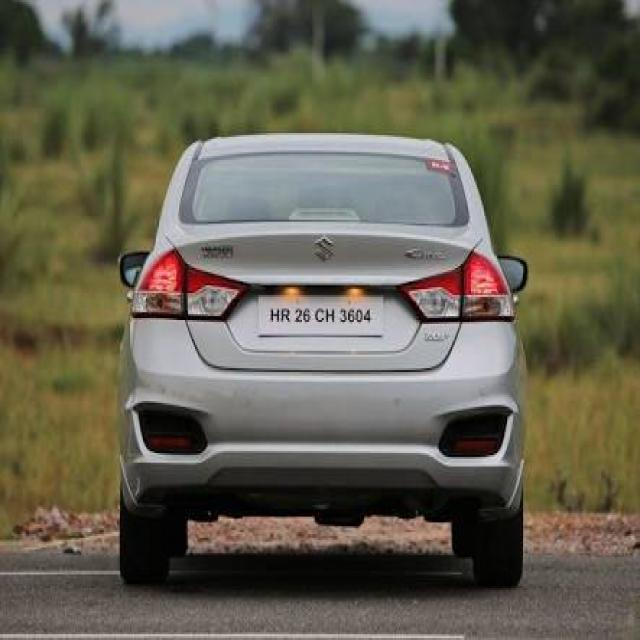Number-Plate: (260, 293, 382, 335)
